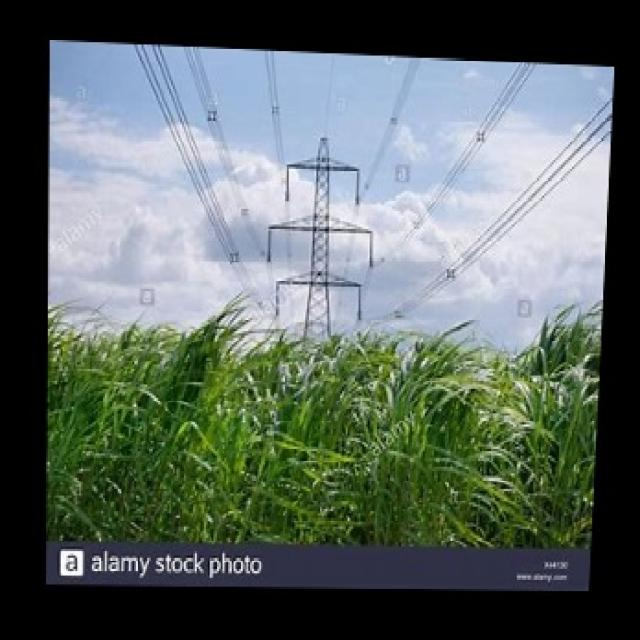utility poles: (262, 108, 375, 537)
